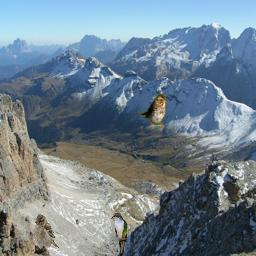Cuckoo: (111, 213, 127, 253)
Sparrow: (139, 93, 167, 130), (34, 214, 59, 254)
